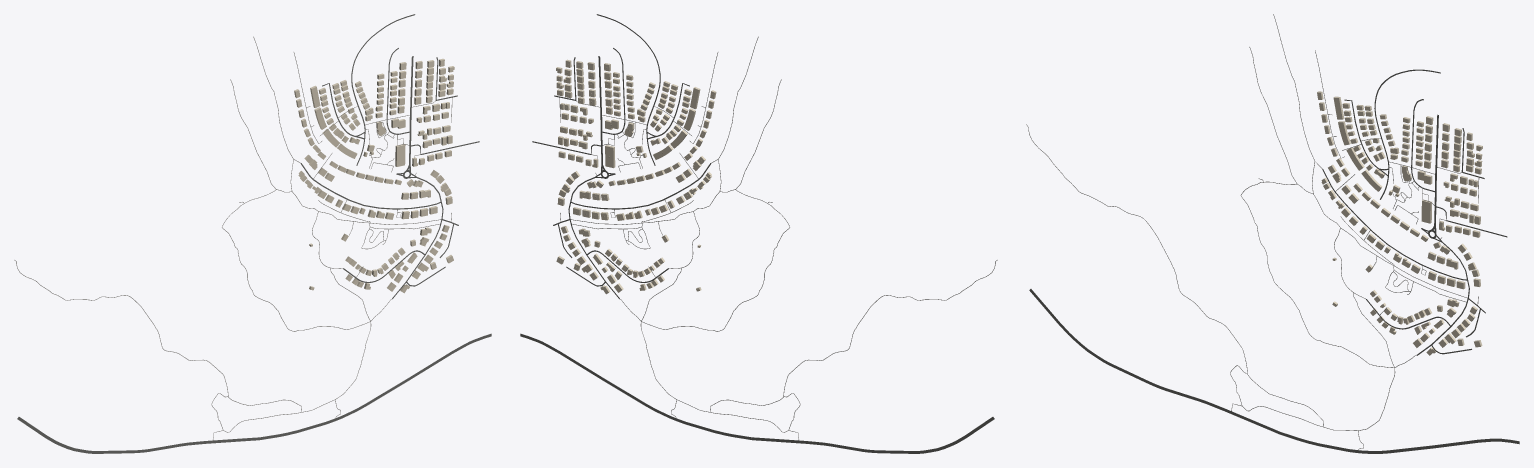
The model's file is historic-palestine-09_27_3512_3211.glb.
The picture shows the model from 3 angles, left to right: view 1: azimuth 30°, elevation 25°; view 2: azimuth 150°, elevation 25°; view 3: azimuth 330°, elevation 25°; orthographic projection. The views are drawn at different scales.
Visible parts, largest first — view 1: Road 505; view 2: Road 505; view 3: Road 505.
Part boxes in pixels (x1,y1,x2,y2): Road 505: (17,333,491,453); Road 505: (520,333,994,453); Road 505: (1029,289,1519,453).
Bounding box in the file's own units: 1404 × 1144 × 8.7.
